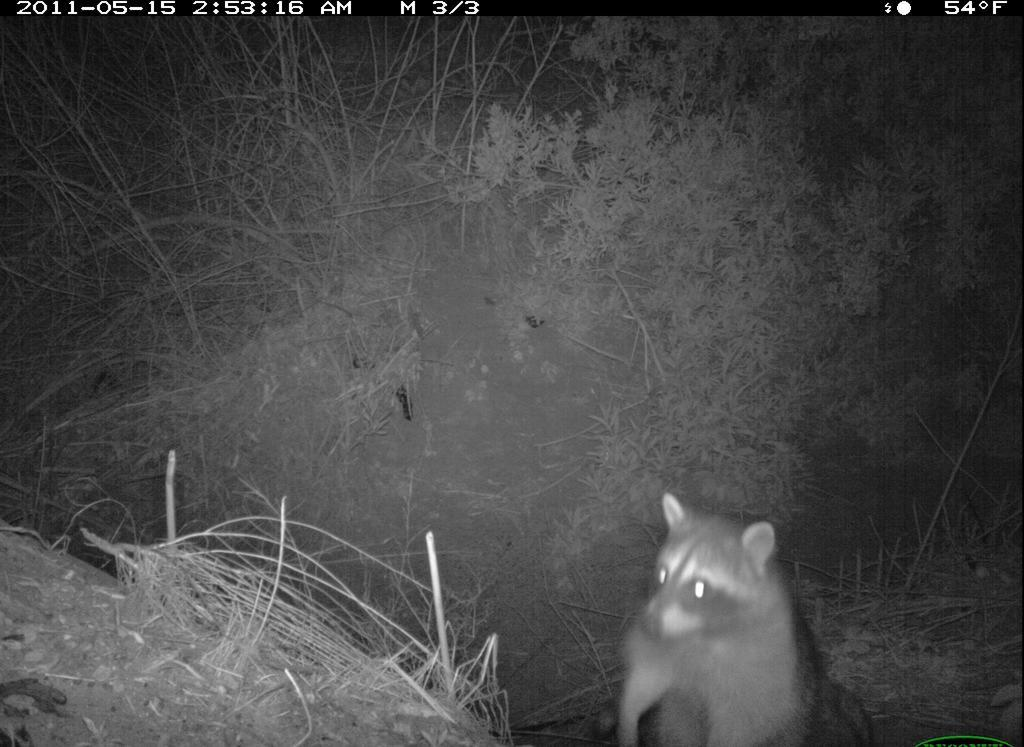raccoon: (611, 487, 880, 739)
